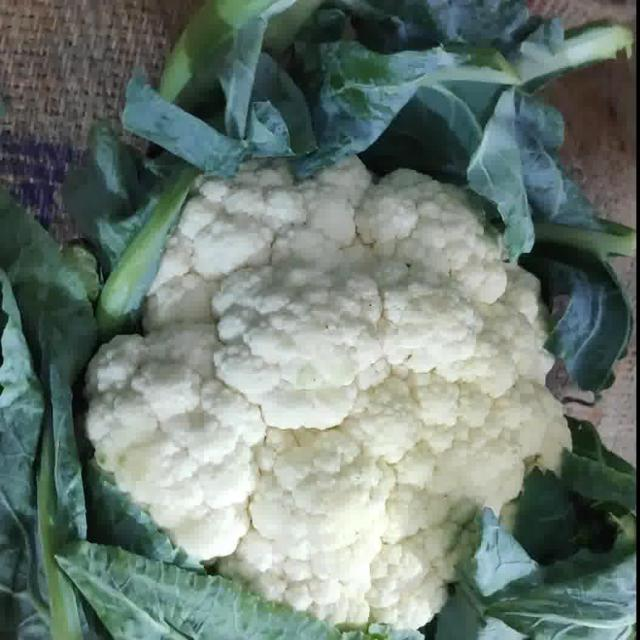Cauliflower: (85, 160, 570, 629)
